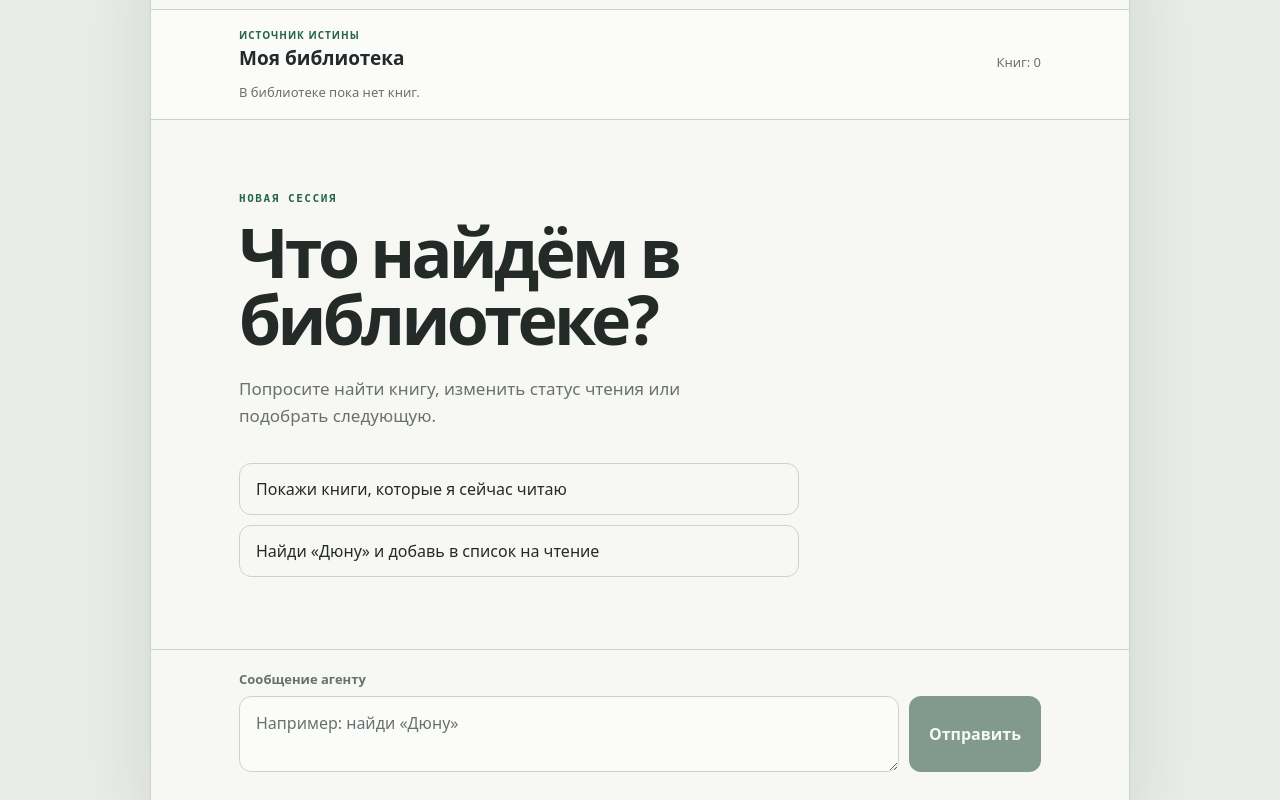
Book Agent chat › renders an explicit running state
The width and height of the screenshot is (1280, 800).
(page scrolled)
Type "Найди Дюну" into the text box labelled "Сообщение агенту" at (569, 734), box [239,696,899,772]
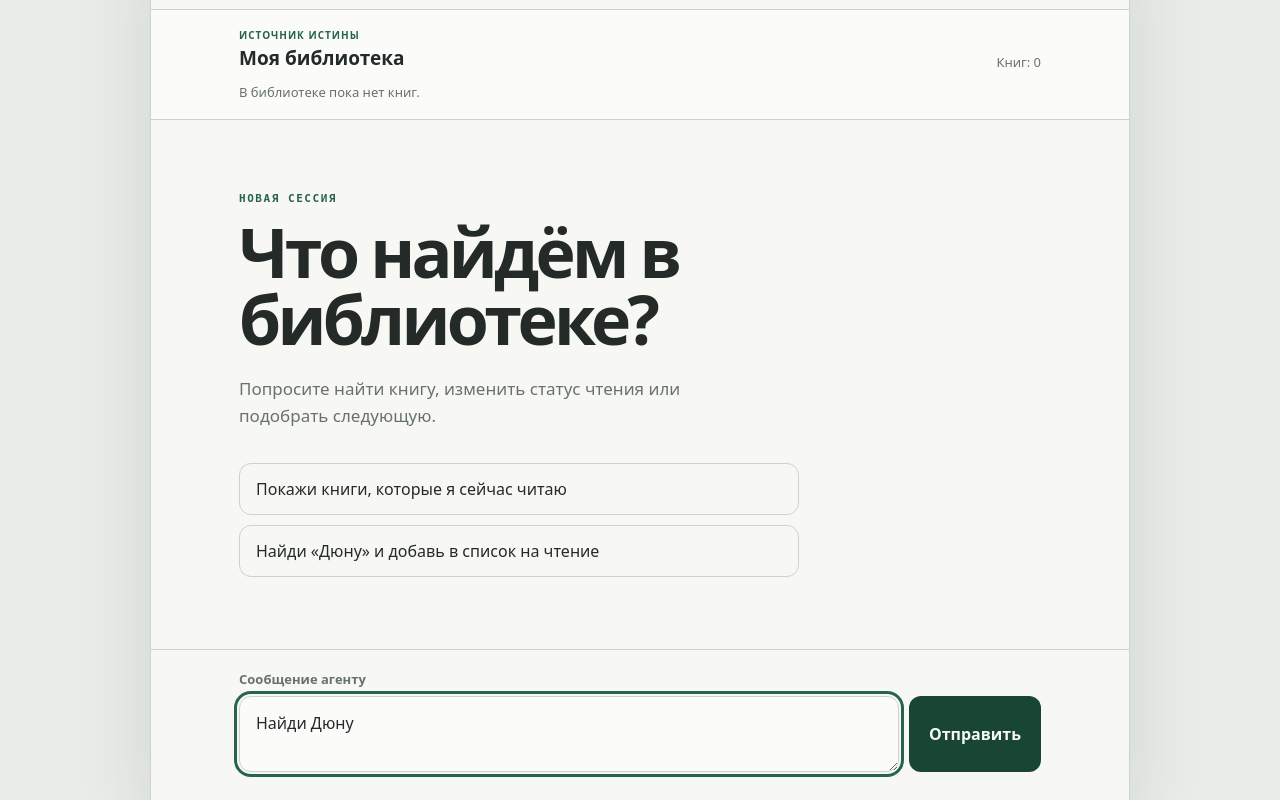
Click the button "Отправить" at (975, 734), box [909,696,1041,772]
(page scrolled)
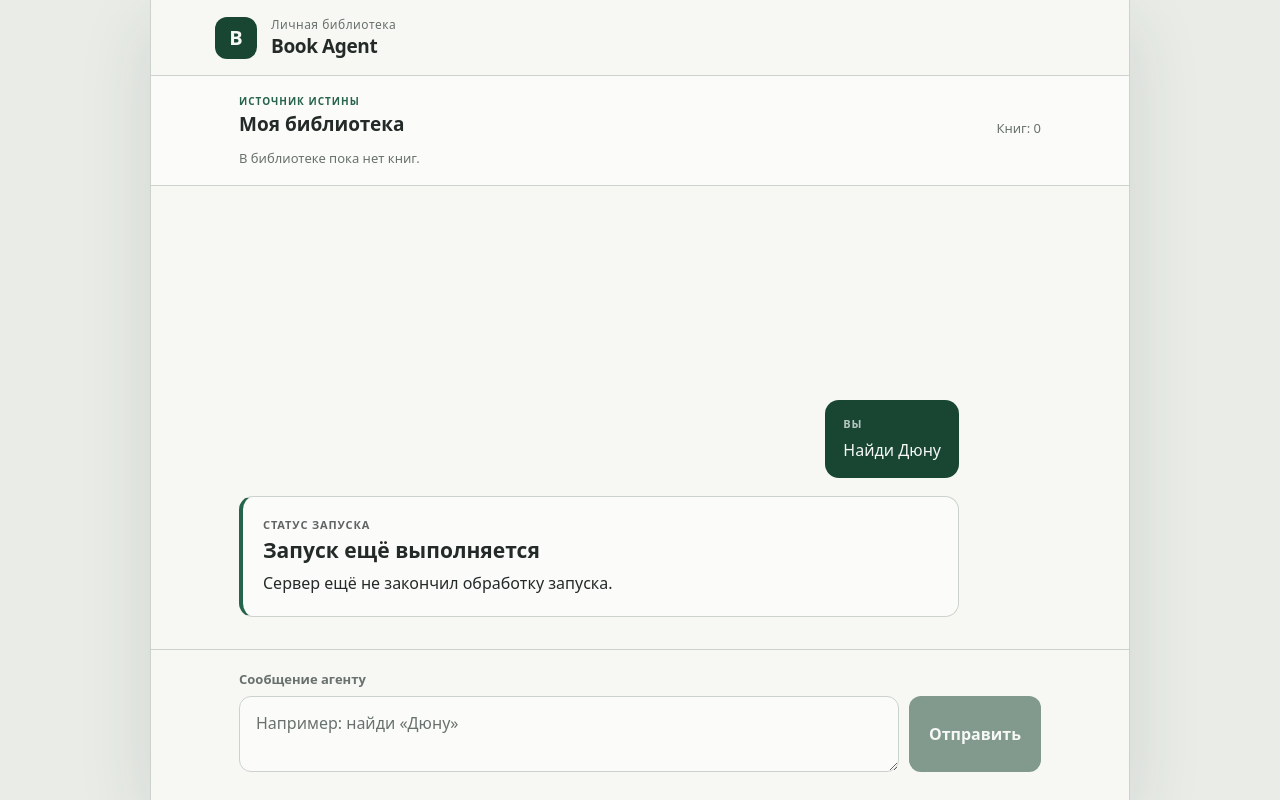
Check: the heading "Запуск ещё выполняется" is shown, box [263,536,540,564]
